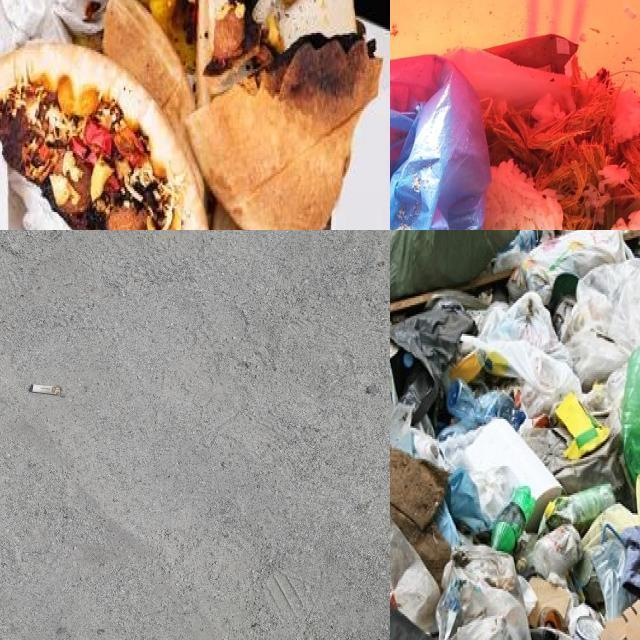Background: (0, 230, 390, 640)
Cig_bud: (30, 384, 61, 395)
Garbage: (390, 230, 640, 640), (390, 34, 640, 230)
Plastic_Bag: (390, 57, 490, 230), (463, 292, 582, 416), (390, 301, 475, 424), (561, 259, 640, 389), (390, 230, 519, 301), (509, 230, 632, 304), (436, 545, 531, 640), (539, 483, 615, 535), (534, 525, 582, 578)
Plastic_bottle: (447, 379, 525, 430), (491, 485, 536, 553), (622, 348, 640, 479), (493, 230, 539, 271)
